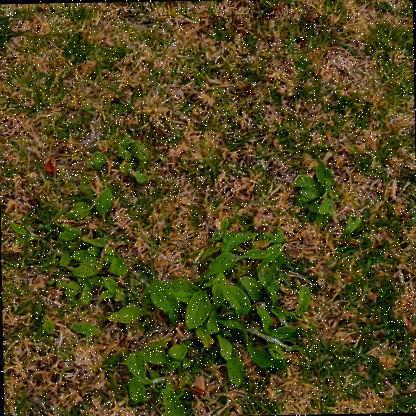Weeds: (9, 184, 313, 415), (86, 136, 150, 184), (293, 159, 336, 228)
